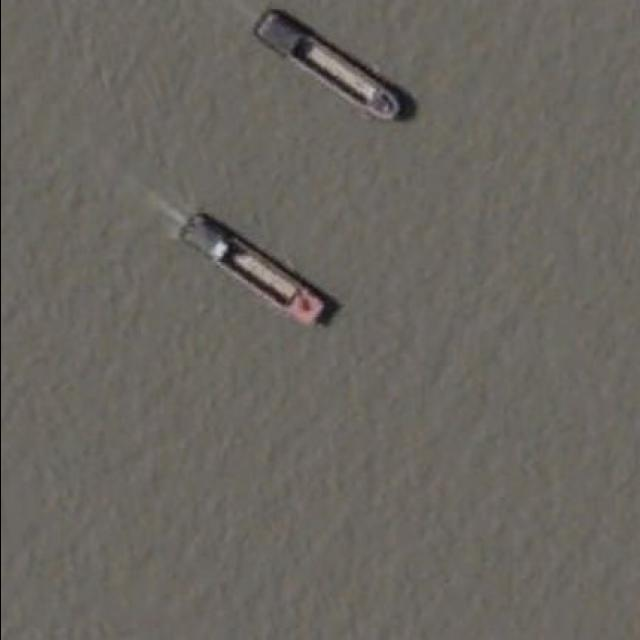ship: (182, 214, 340, 332), (254, 12, 418, 125)
